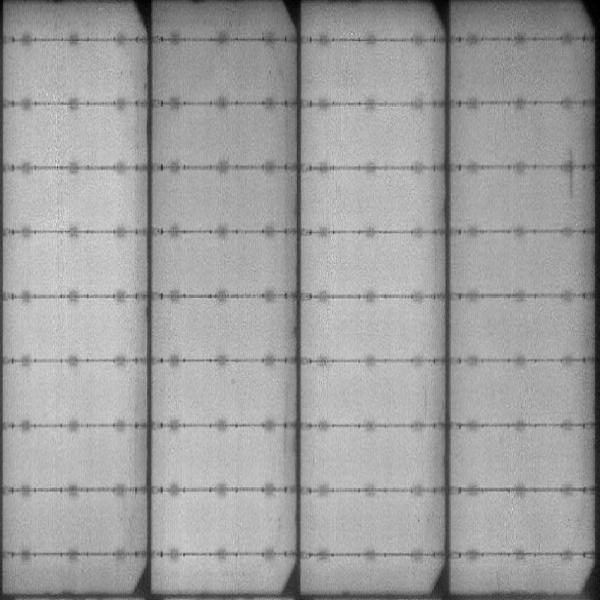scratch: (565, 149, 581, 199)
